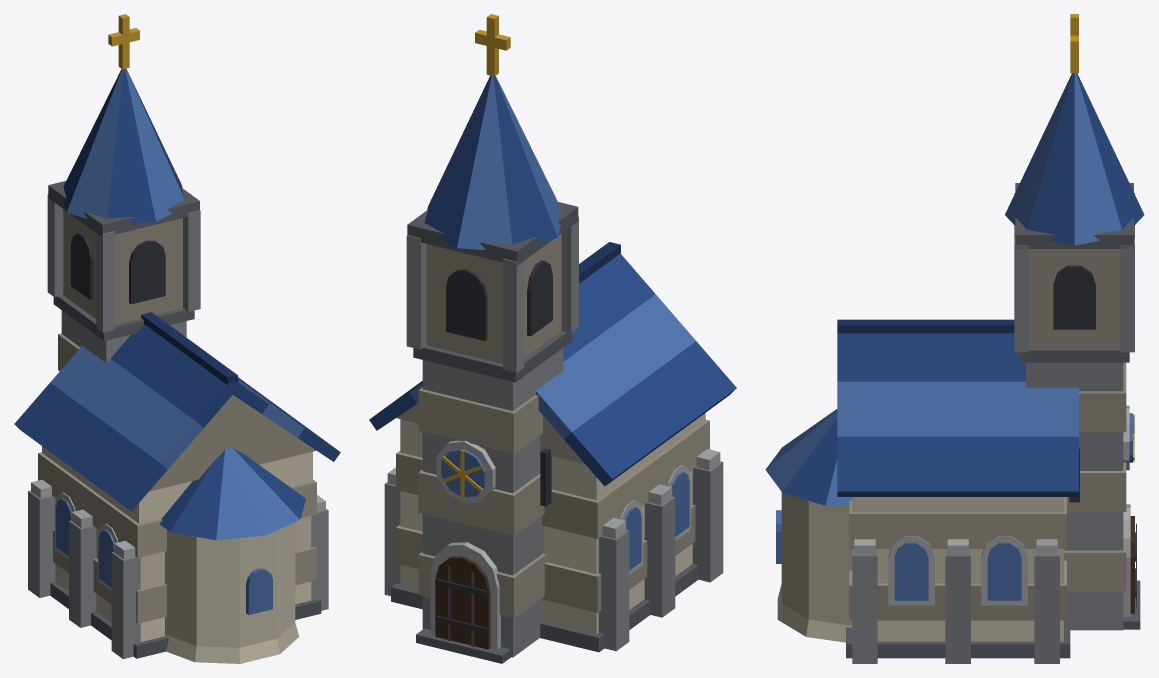
The model's file is Decor_KnightCastle_Chapel.fbx.
The picture shows the model from 3 angles, left to right: view 1: azimuth 30°, elevation 25°; view 2: azimuth 150°, elevation 25°; view 3: azimuth 270°, elevation 25°; orthographic projection. The views are drawn at different scales.
Parts seen in each view (by area): view 1: Chapel_Body; view 2: Chapel_Body; view 3: Chapel_Body.
Boxes of the visible parts, left/top/right/bottom form: Chapel_Body: left=14, top=14, right=340, bottom=663; Chapel_Body: left=369, top=14, right=736, bottom=663; Chapel_Body: left=765, top=14, right=1144, bottom=663.
Size of the model in its own units: 12.36 by 29.7 by 17.2.
